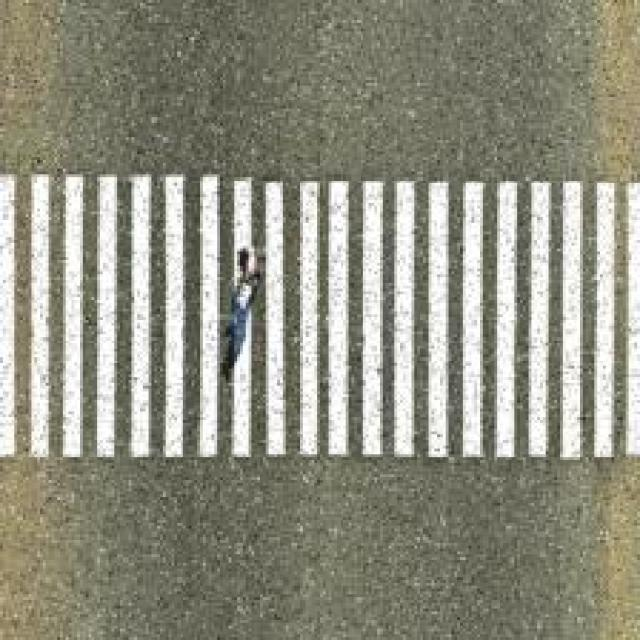crosswalk: (0, 170, 634, 461)
